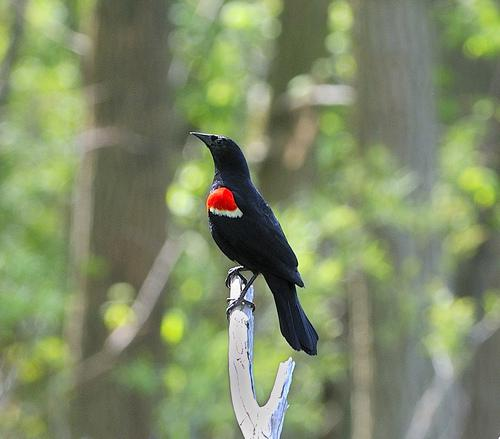010.Red_winged_Blackbird: (186, 128, 323, 356)
